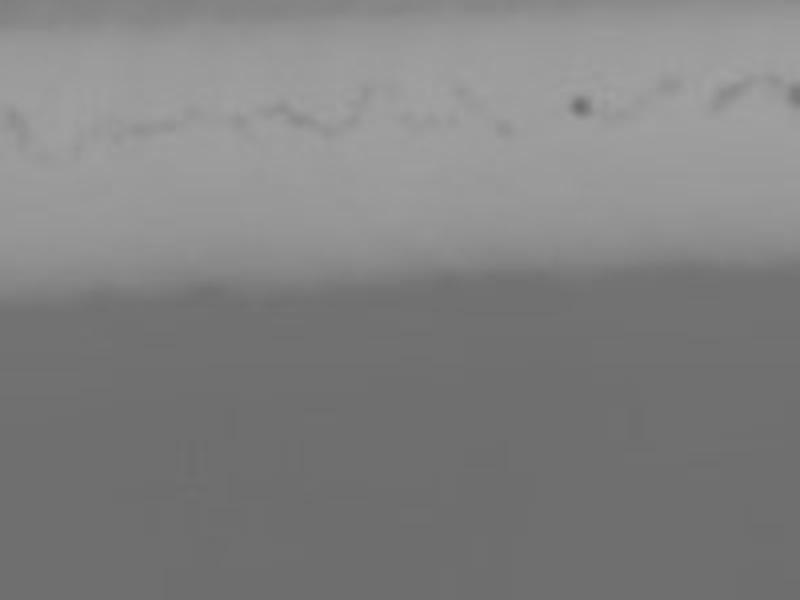defect: (8, 103, 29, 156), (225, 110, 253, 137), (154, 110, 180, 136), (256, 101, 292, 119), (177, 103, 205, 125), (654, 74, 682, 96), (569, 94, 594, 118), (721, 79, 747, 102), (337, 109, 364, 131), (126, 117, 153, 138), (703, 93, 726, 117), (353, 80, 378, 100), (444, 109, 465, 132), (290, 112, 314, 129), (446, 80, 468, 98), (110, 127, 127, 149), (496, 118, 514, 137), (788, 80, 800, 105), (422, 111, 439, 128), (318, 125, 337, 138), (398, 111, 413, 126)
